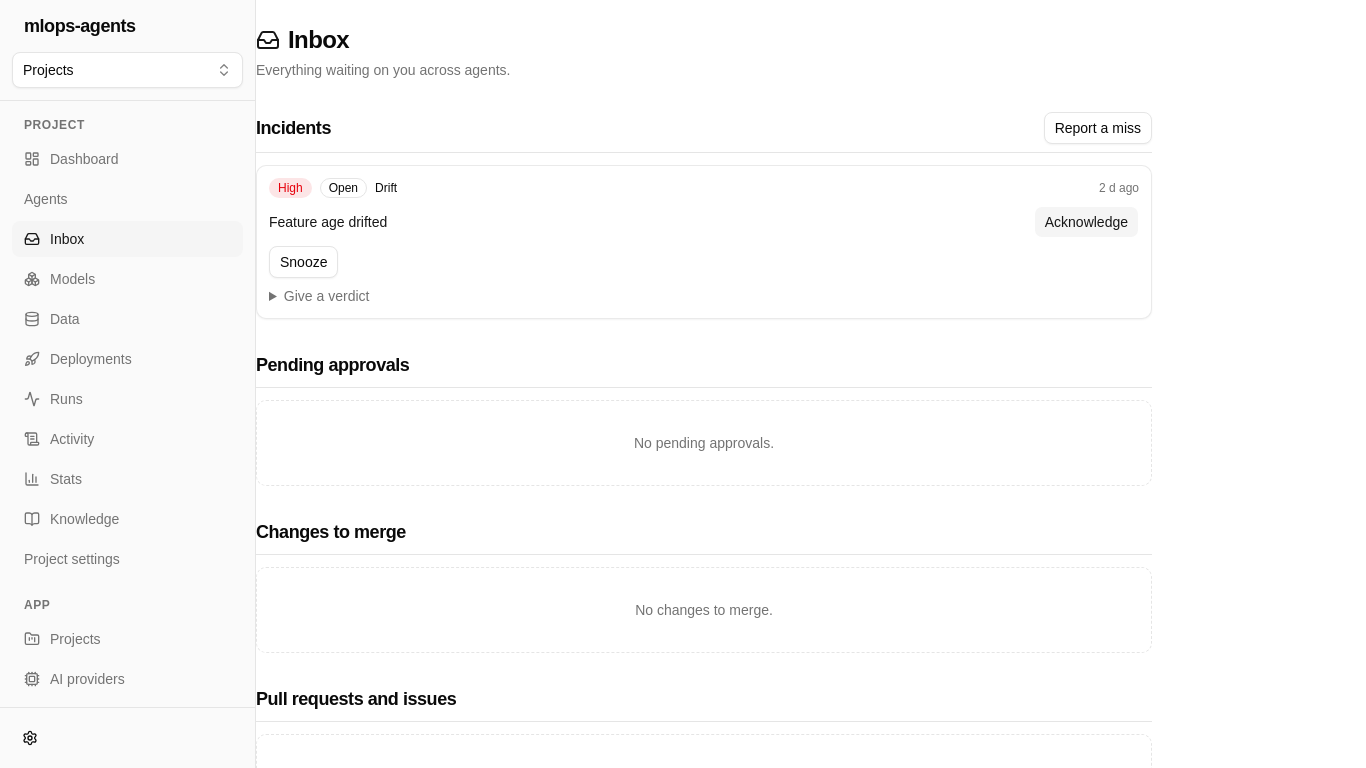
Test case: Inbox incidents section › snoozes an incident until the chosen time and shows the snooze on the row
Click the button "Snooze". click: (304,262)
box: [269,246,338,278]
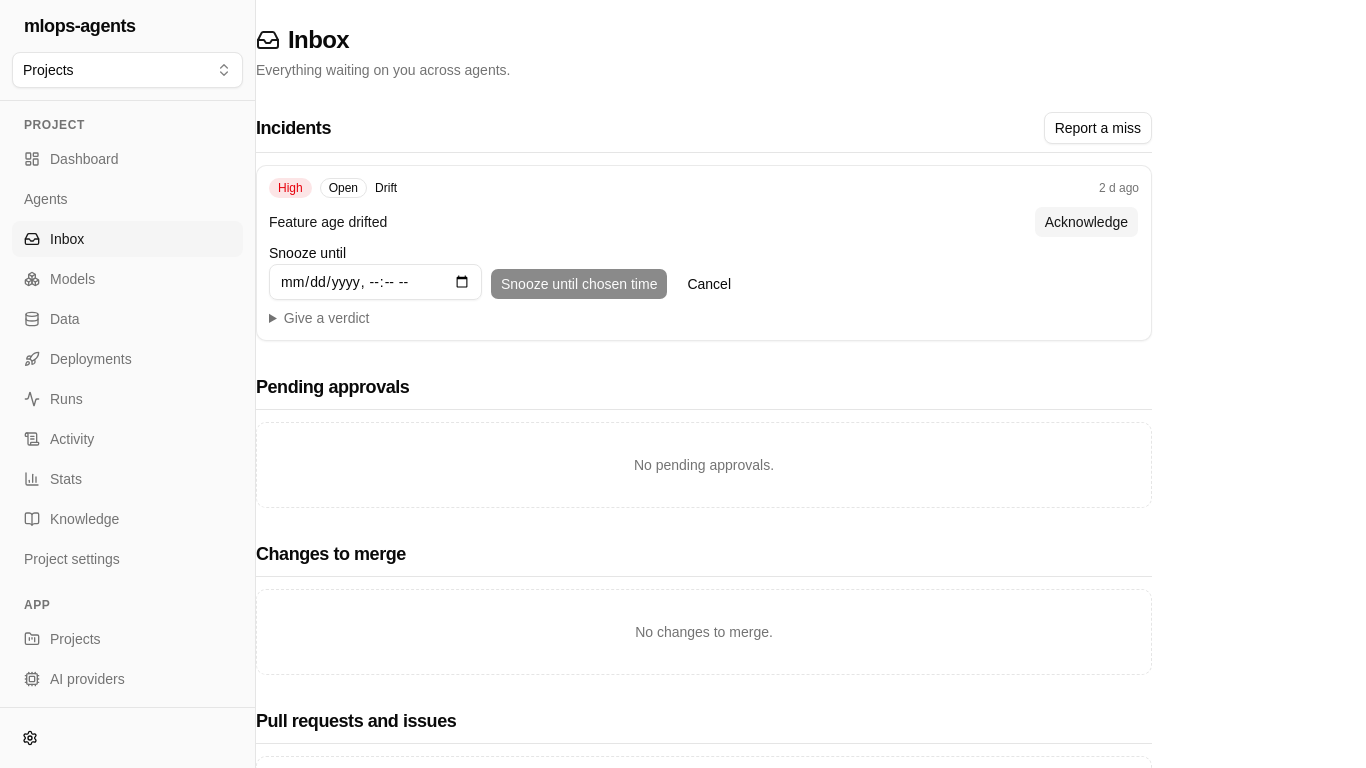
Expected: the button "Snooze until chosen time" is disabled, [490,268,668,300]
Type "2026-11-02T10:00" into the field labelled "Snooze until". click: (376,282)
box: [269,264,482,300]
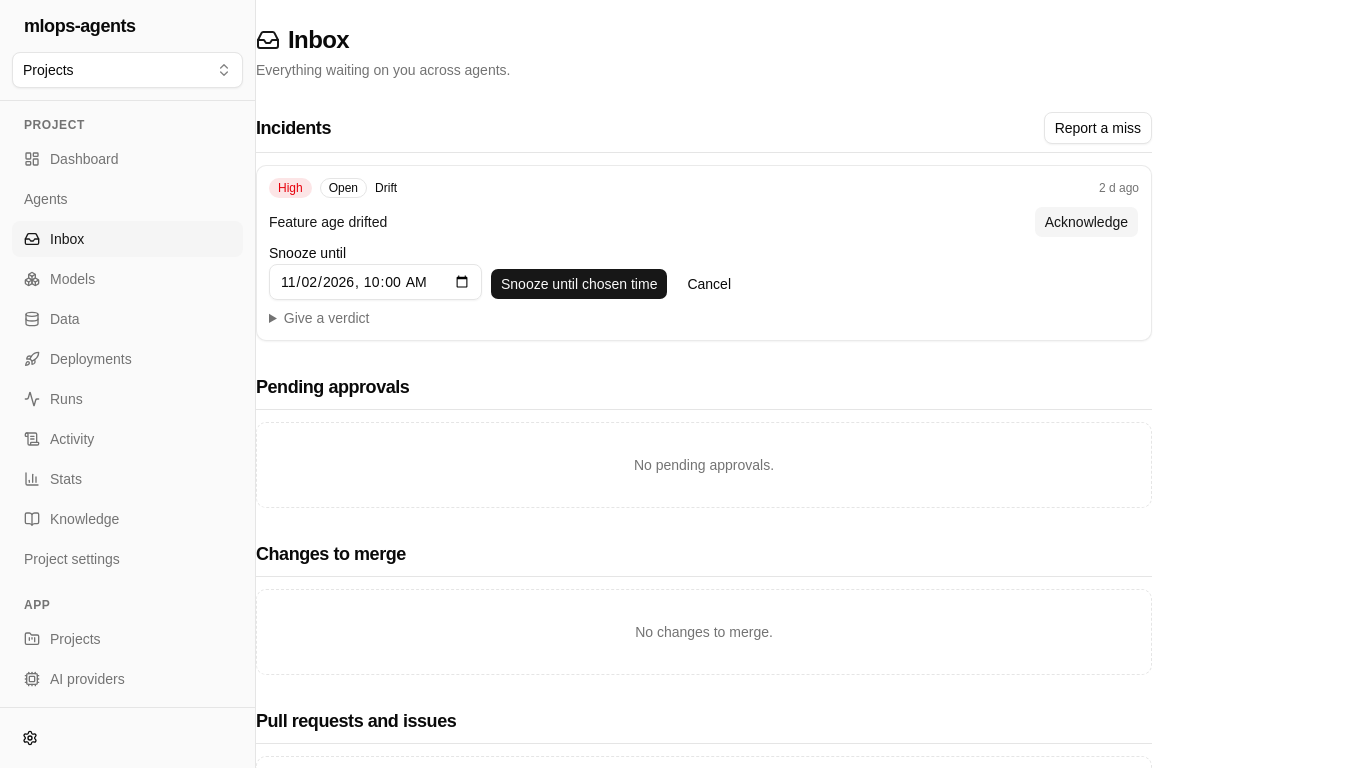
Click the button "Snooze until chosen time". click: (579,284)
box: [490,268,668,300]
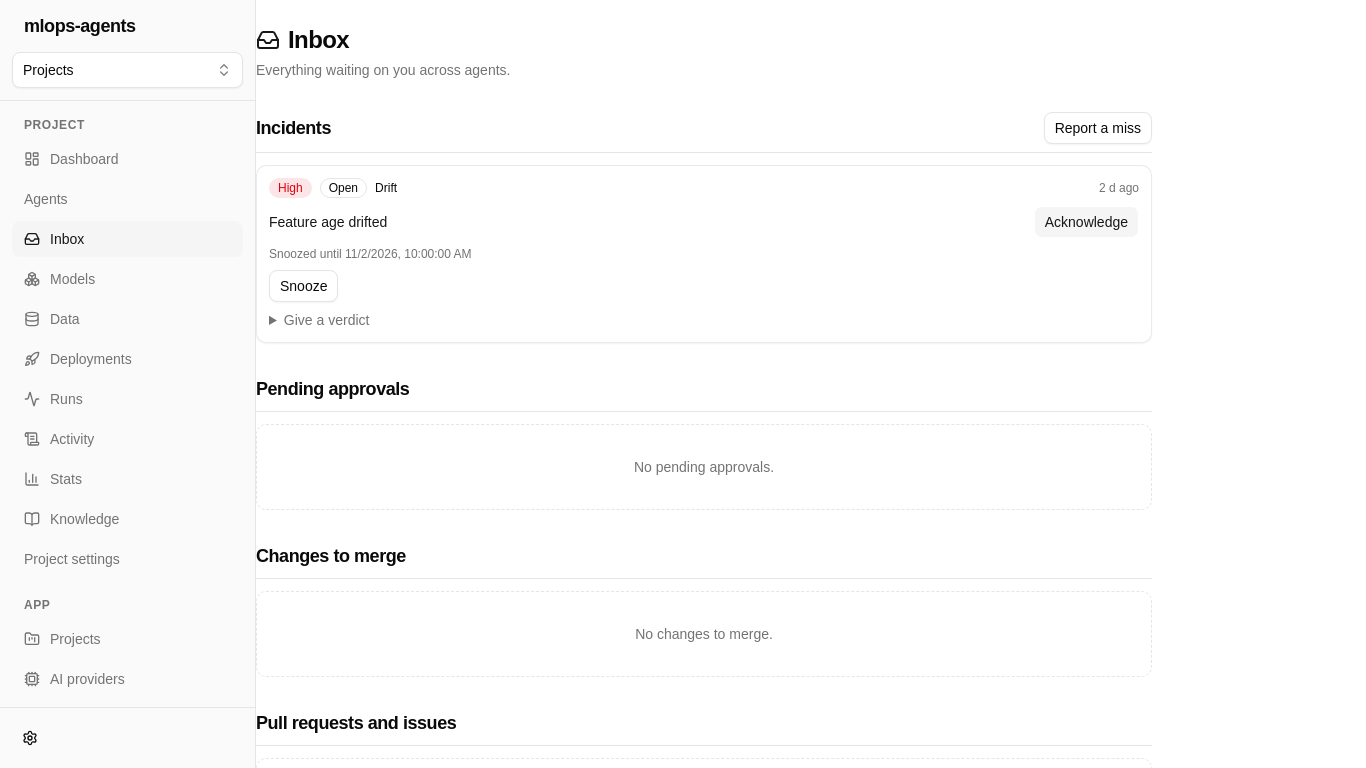
Expected: the text "Snoozed until 11/2/2026, 10:00:00 AM" is shown, [269,247,472,261]
